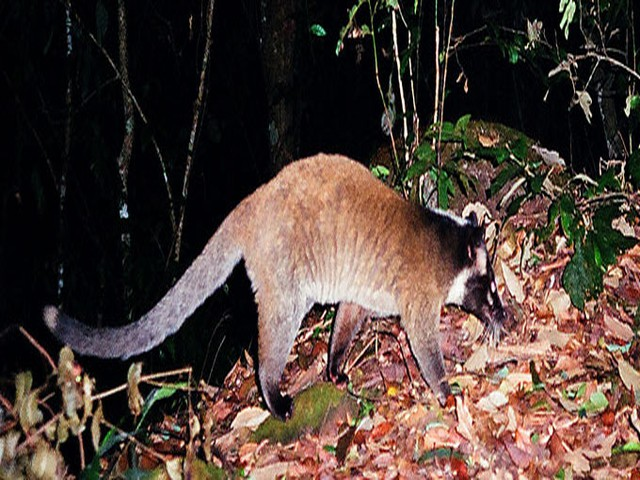civet: (36, 151, 512, 419)
